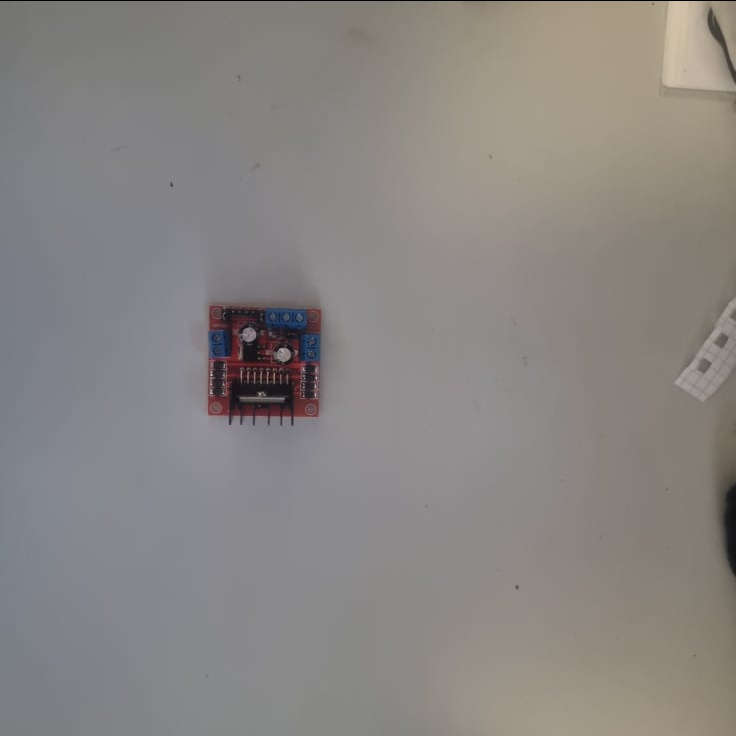MOTOR: (206, 305, 327, 425)
